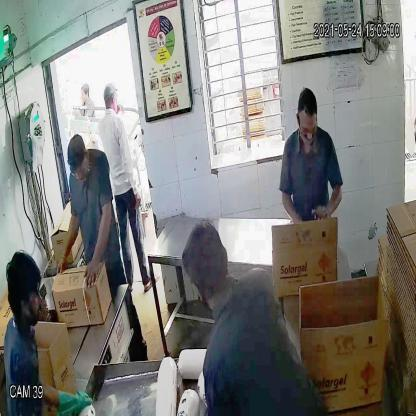goggles: (296, 117, 318, 139)
